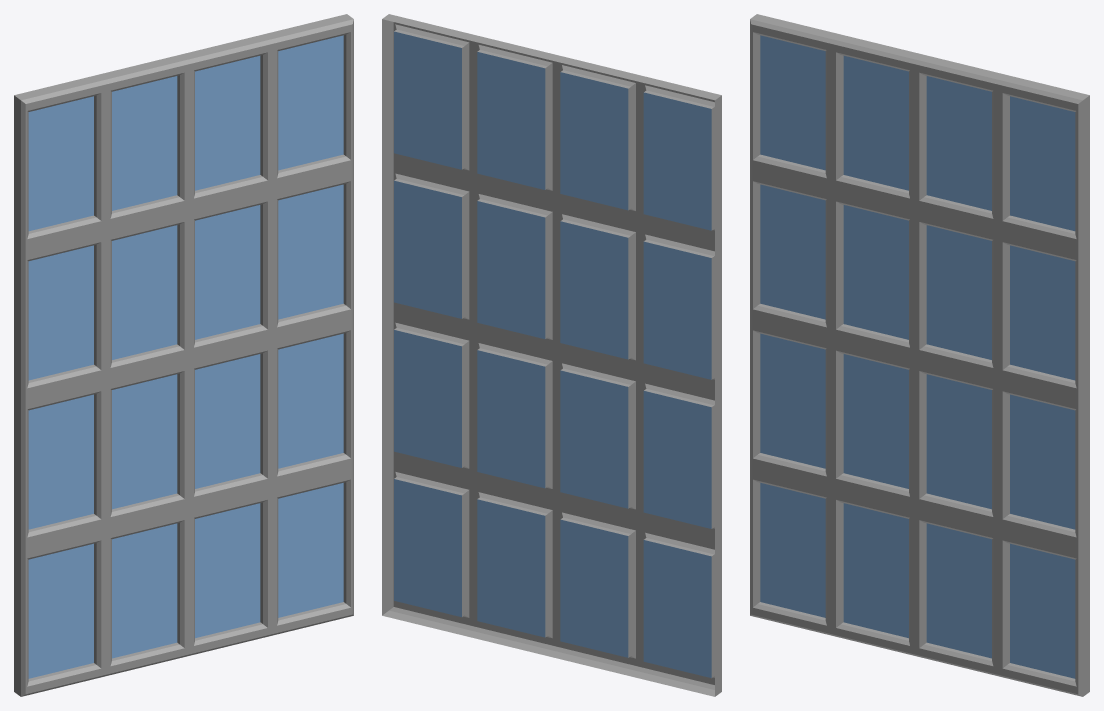
The model's file is Ventana_01.fbx.
The picture shows the model from 3 angles, left to right: view 1: azimuth 30°, elevation 25°; view 2: azimuth 150°, elevation 25°; view 3: azimuth 330°, elevation 25°; orthographic projection.
Parts seen in each view (by area): view 1: polySurface131; view 2: polySurface131; view 3: polySurface131.
Boxes of the visible parts, bbox=[...] form: polySurface131: bbox=[14, 14, 353, 696]; polySurface131: bbox=[382, 14, 721, 696]; polySurface131: bbox=[750, 14, 1089, 696].
Bounding box in the file's own units: 254 × 434 × 11.55.
